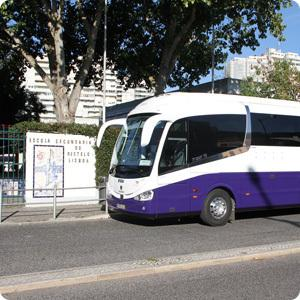vehicle: (96, 92, 300, 227)
